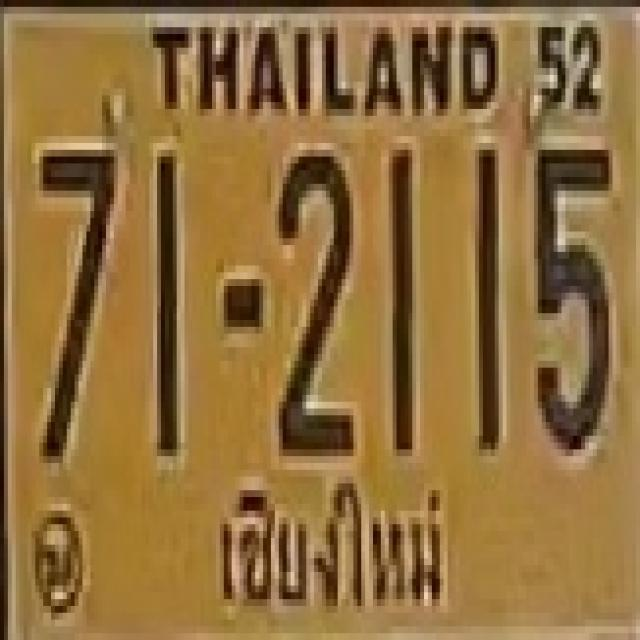1: (153, 146, 177, 453), (471, 146, 495, 446), (155, 150, 179, 449), (389, 143, 412, 449)
2: (275, 150, 349, 449)
5: (530, 143, 609, 449)
7: (35, 143, 114, 456)
CMI: (208, 475, 455, 627)
